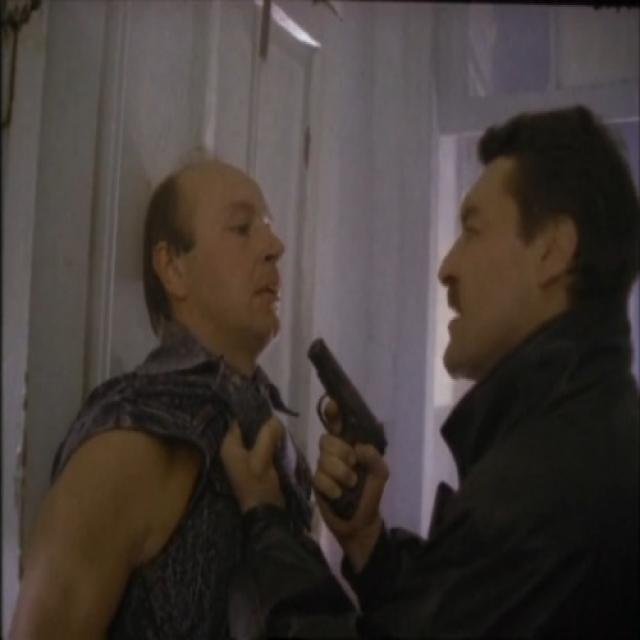weapons: (293, 316, 399, 546)
